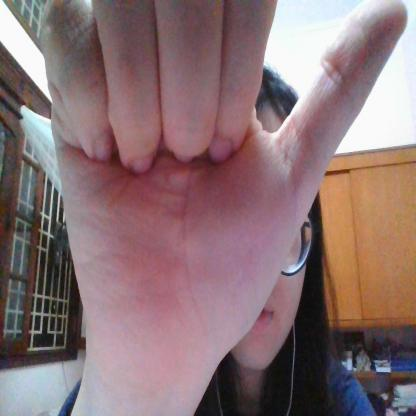left: (38, 1, 408, 340)
